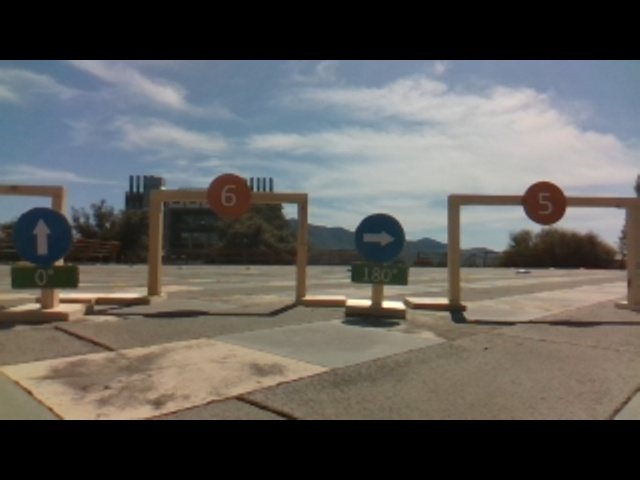0_degree: (12, 264, 83, 289)
180_degree: (350, 258, 411, 285)
arrow_right: (353, 207, 407, 261)
arrow_up: (13, 207, 75, 264)
checkpoint_foot: (407, 289, 467, 314), (94, 285, 168, 305), (290, 287, 345, 305)
checkpoint_side: (444, 189, 466, 299), (291, 190, 313, 296), (145, 188, 167, 285), (622, 194, 640, 296)
checkpoint_signal: (446, 191, 640, 213), (144, 186, 312, 209)
five: (520, 180, 570, 224)
six: (206, 171, 253, 220)
